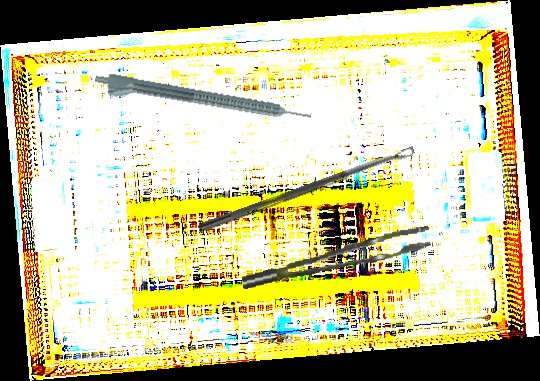Handpiece: (92, 71, 313, 133)
Surgical Spoon: (197, 146, 416, 234)
Tissue Forceps: (238, 226, 434, 289)
